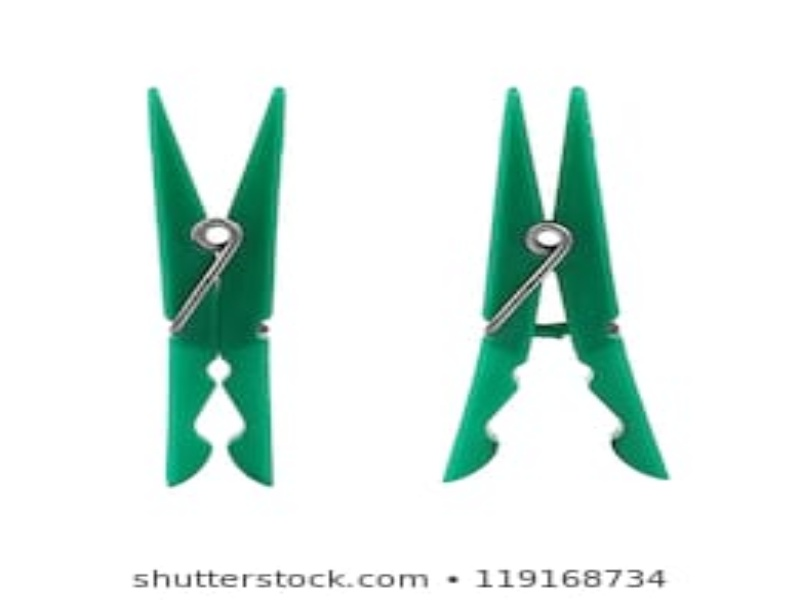plastic-peg: (437, 86, 673, 489), (141, 82, 288, 488)
